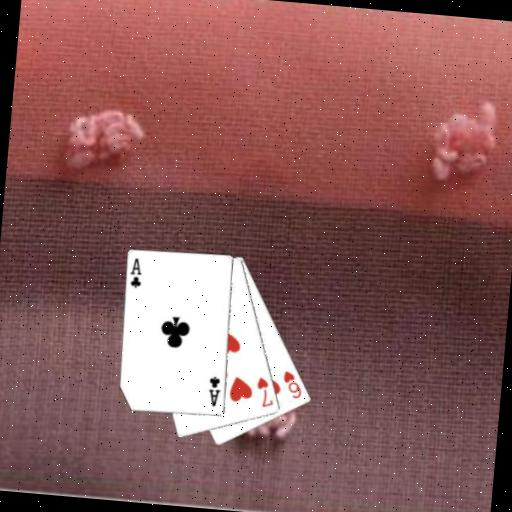6H: (279, 368, 306, 401)
7H: (252, 374, 277, 410)
AC: (205, 374, 224, 409), (126, 255, 145, 290)
